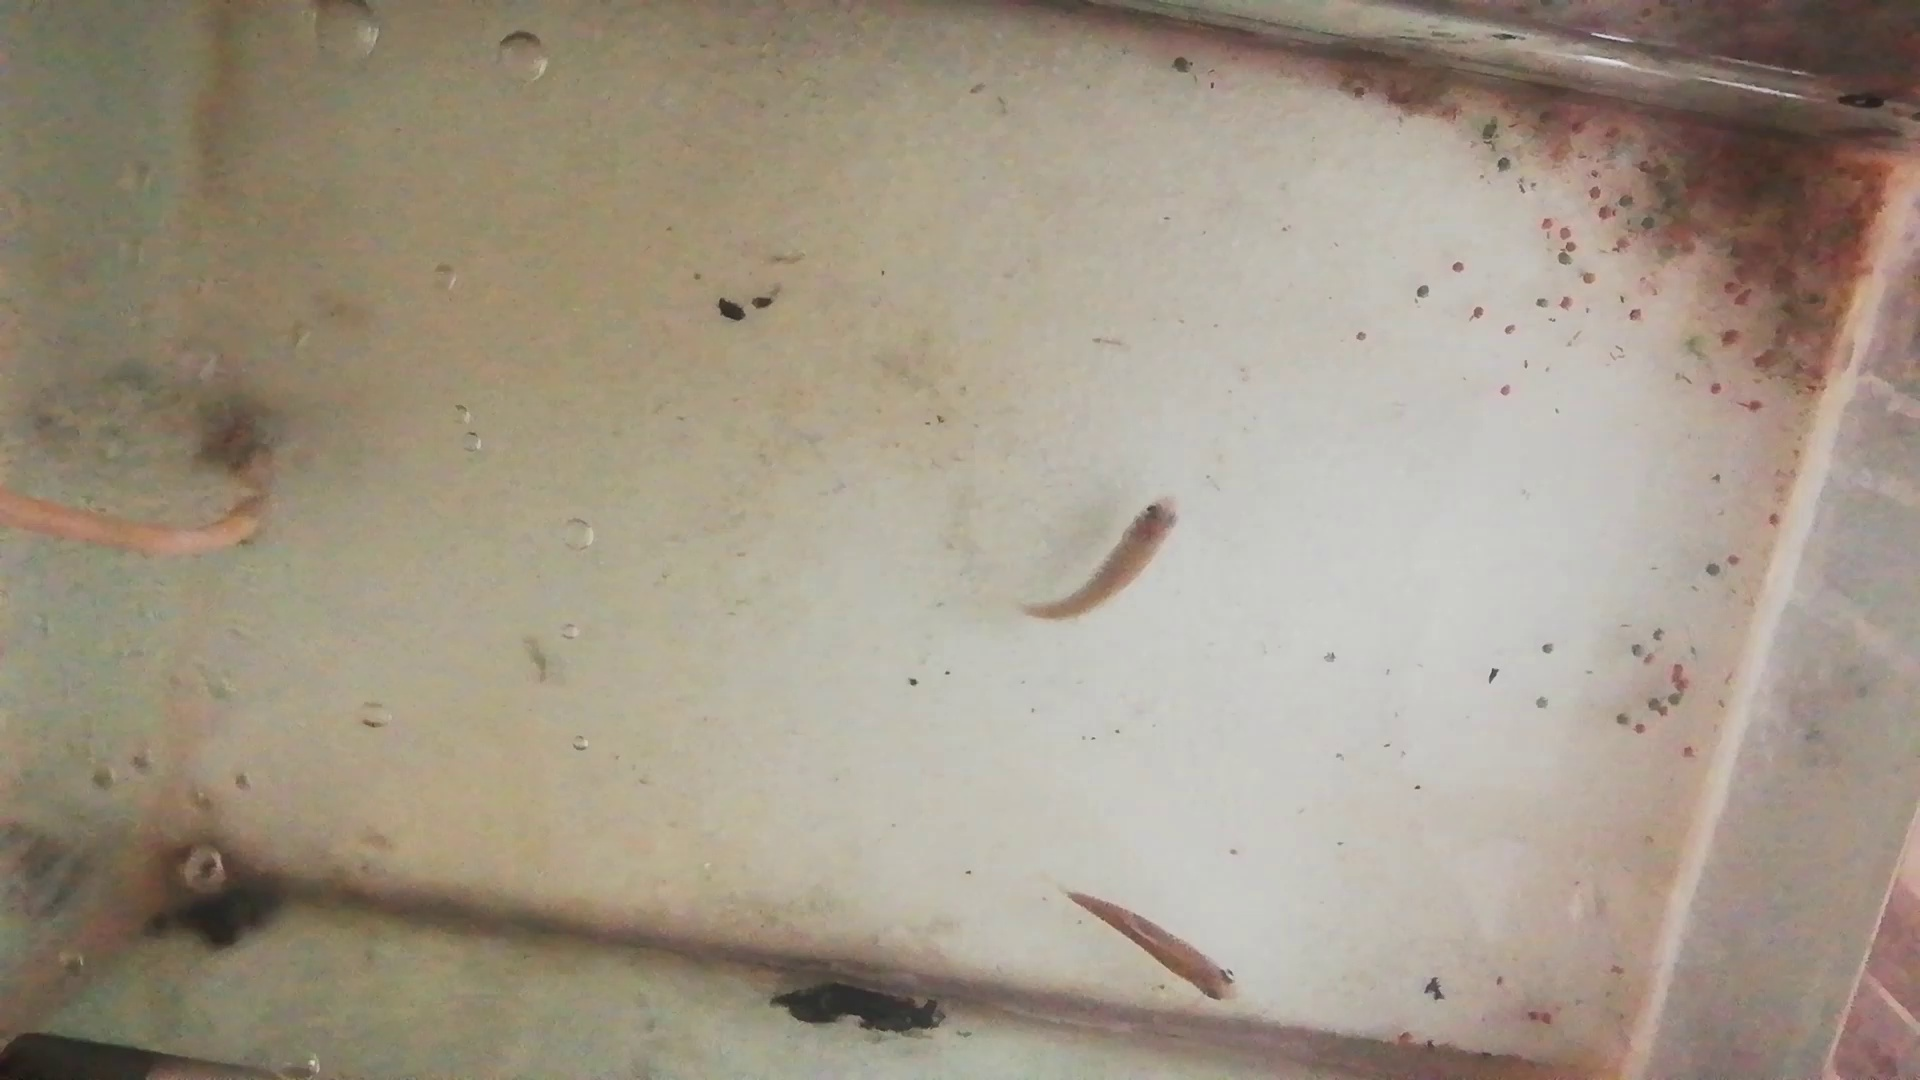fish: (1019, 491, 1184, 624), (1065, 889, 1245, 1007)
